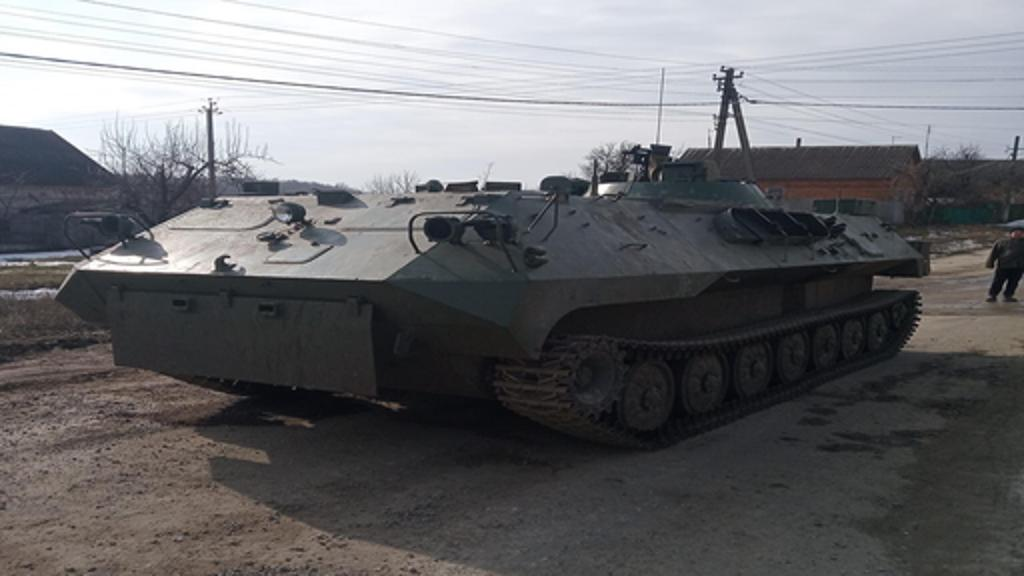APC-IFV: (52, 144, 926, 450)
